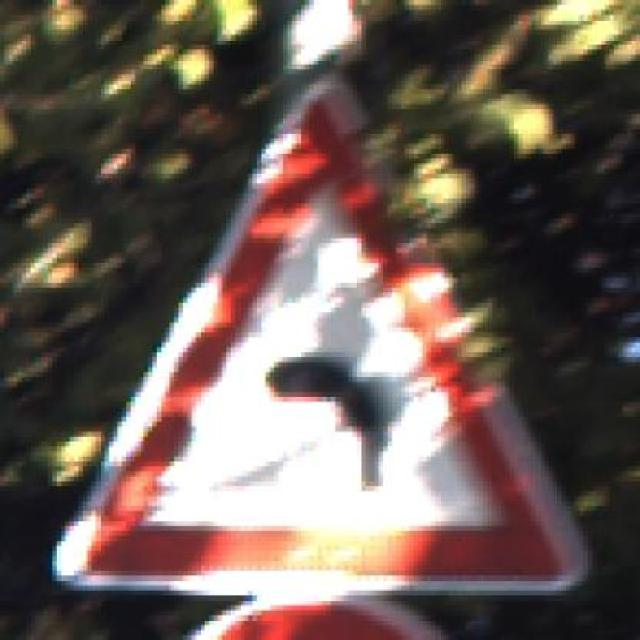Dangerous Left Curve Ahead: (48, 55, 602, 610)
